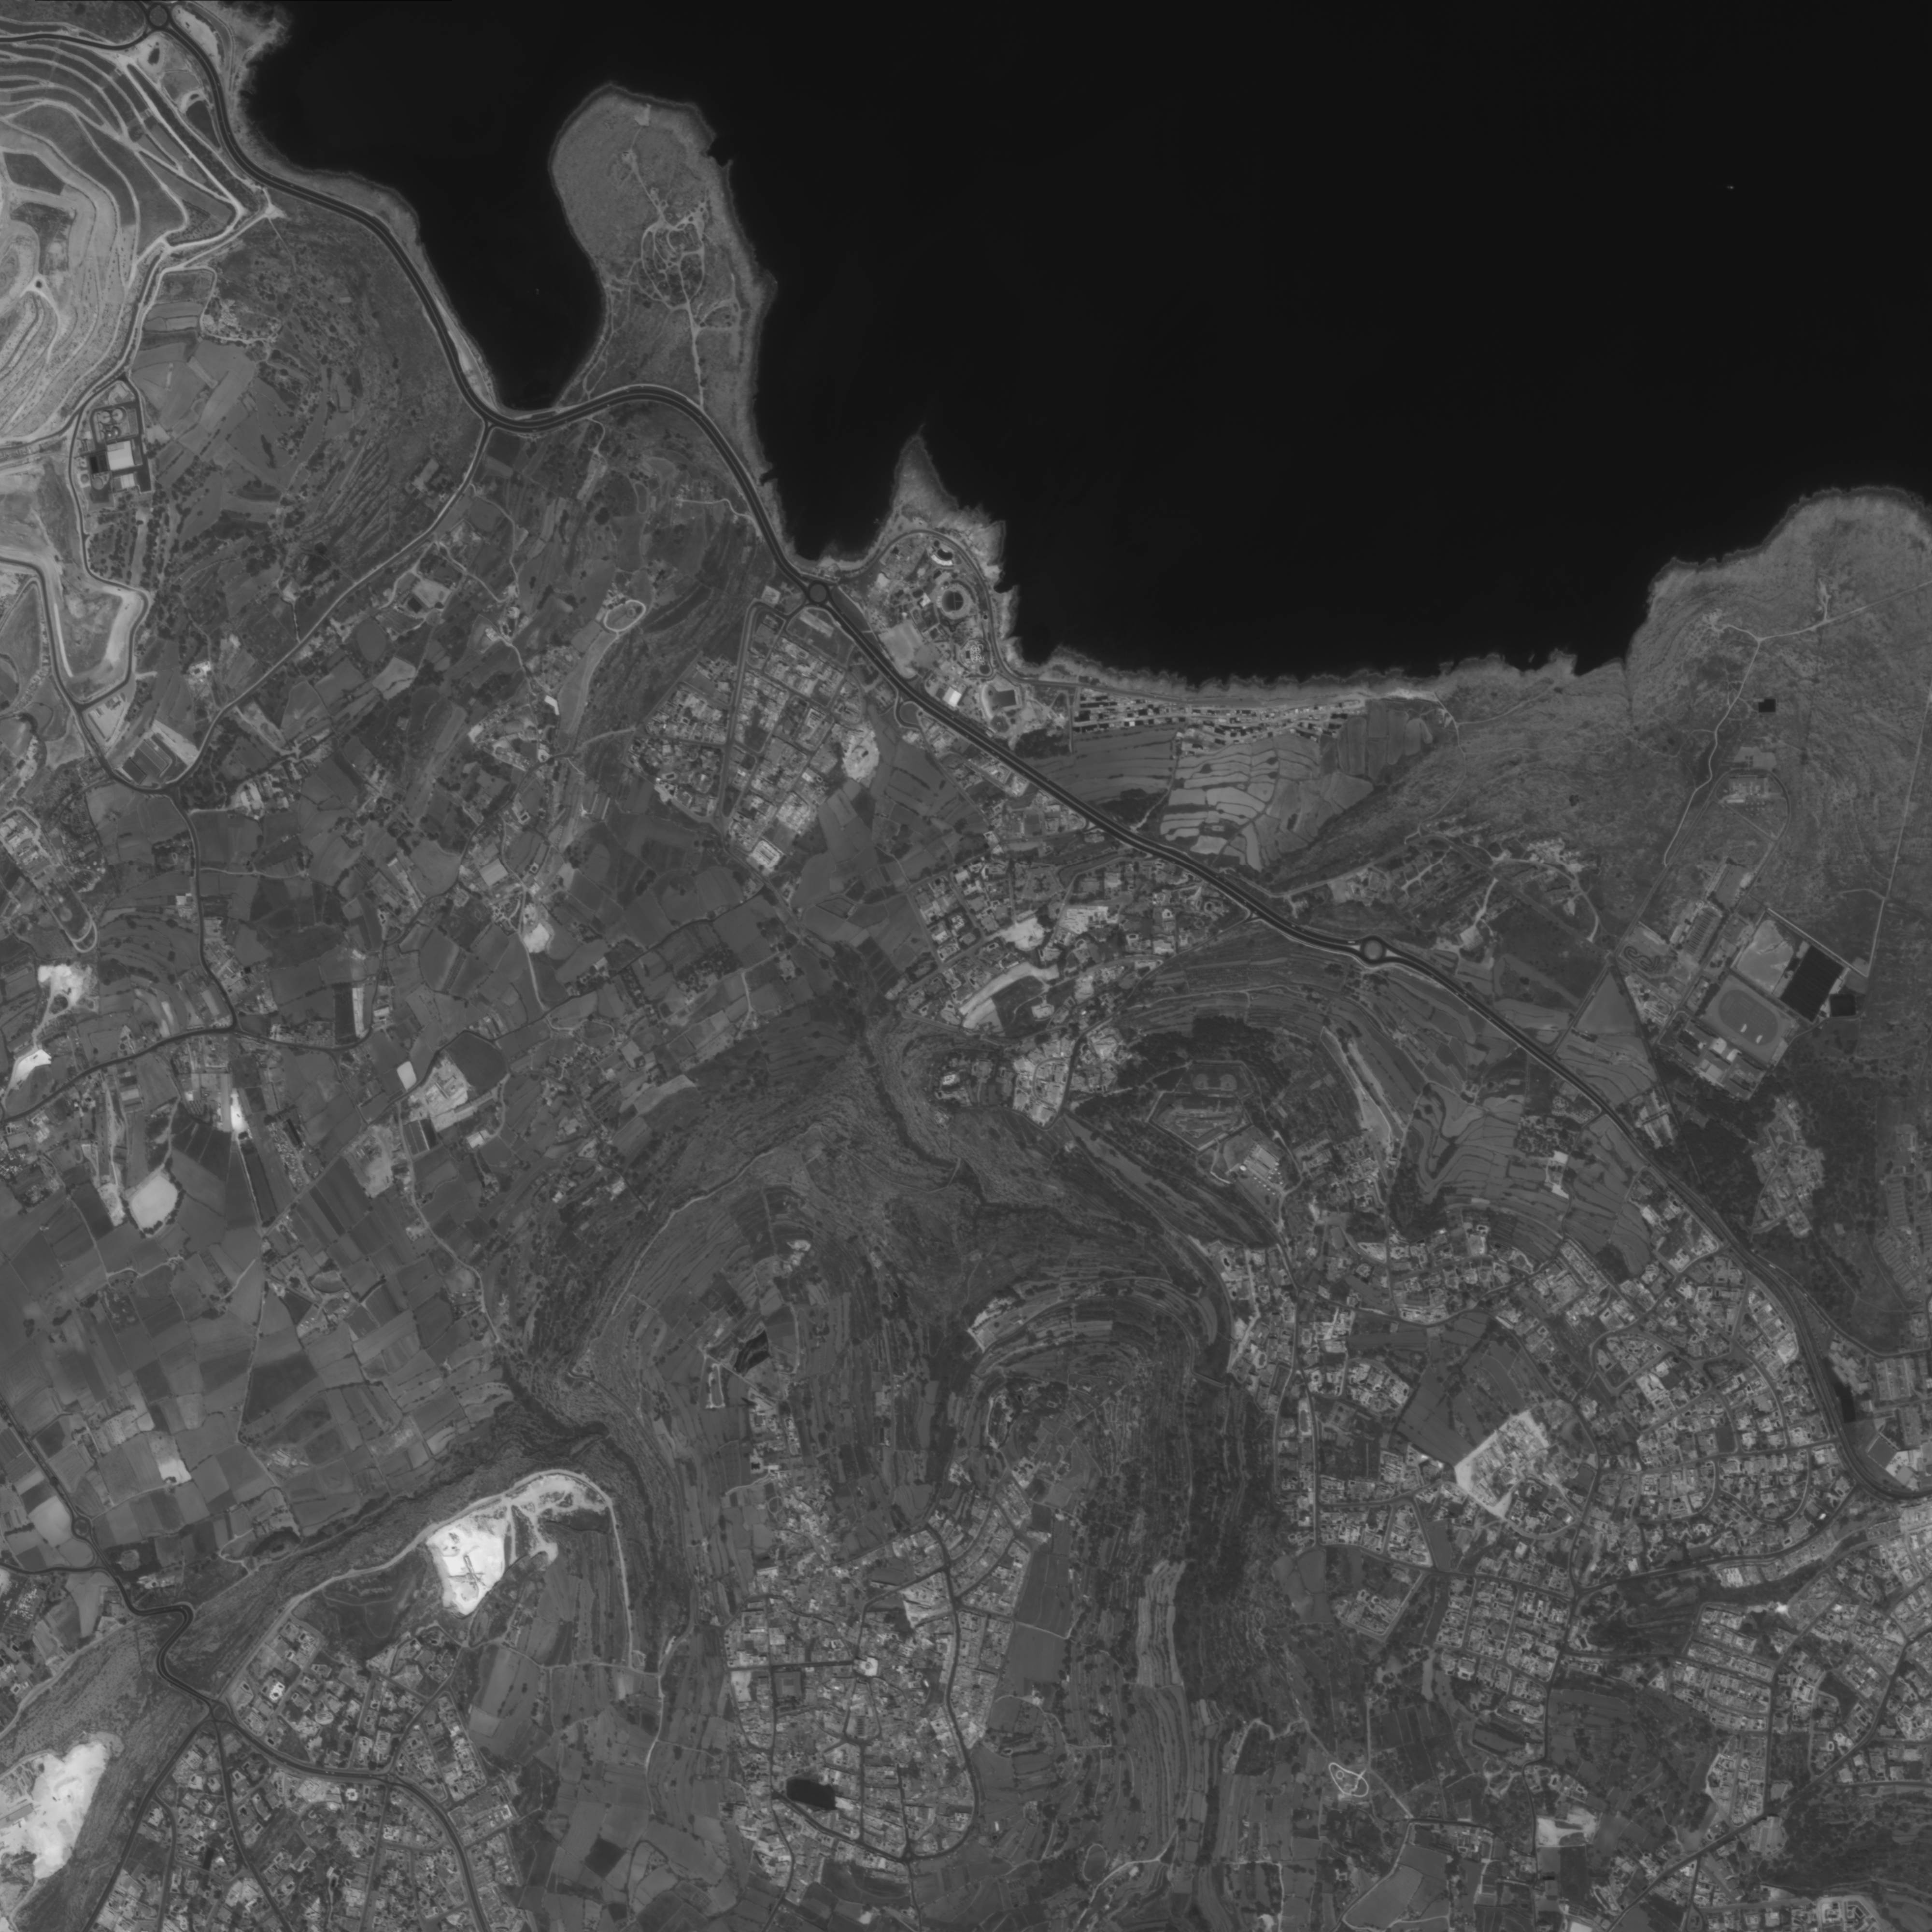baseball diamond: (1217, 1072, 1242, 1093), (1191, 1072, 1212, 1093)
ground track field: (1709, 980, 1789, 1054)
roundabout: (1359, 938, 1389, 966), (805, 579, 833, 609), (145, 4, 173, 32), (67, 1514, 96, 1541), (211, 1702, 232, 1725), (384, 1773, 398, 1785)
soccer ball field: (1778, 945, 1845, 1023)
storage tank: (110, 405, 129, 425), (97, 410, 111, 426), (92, 476, 106, 490), (78, 472, 90, 485)
